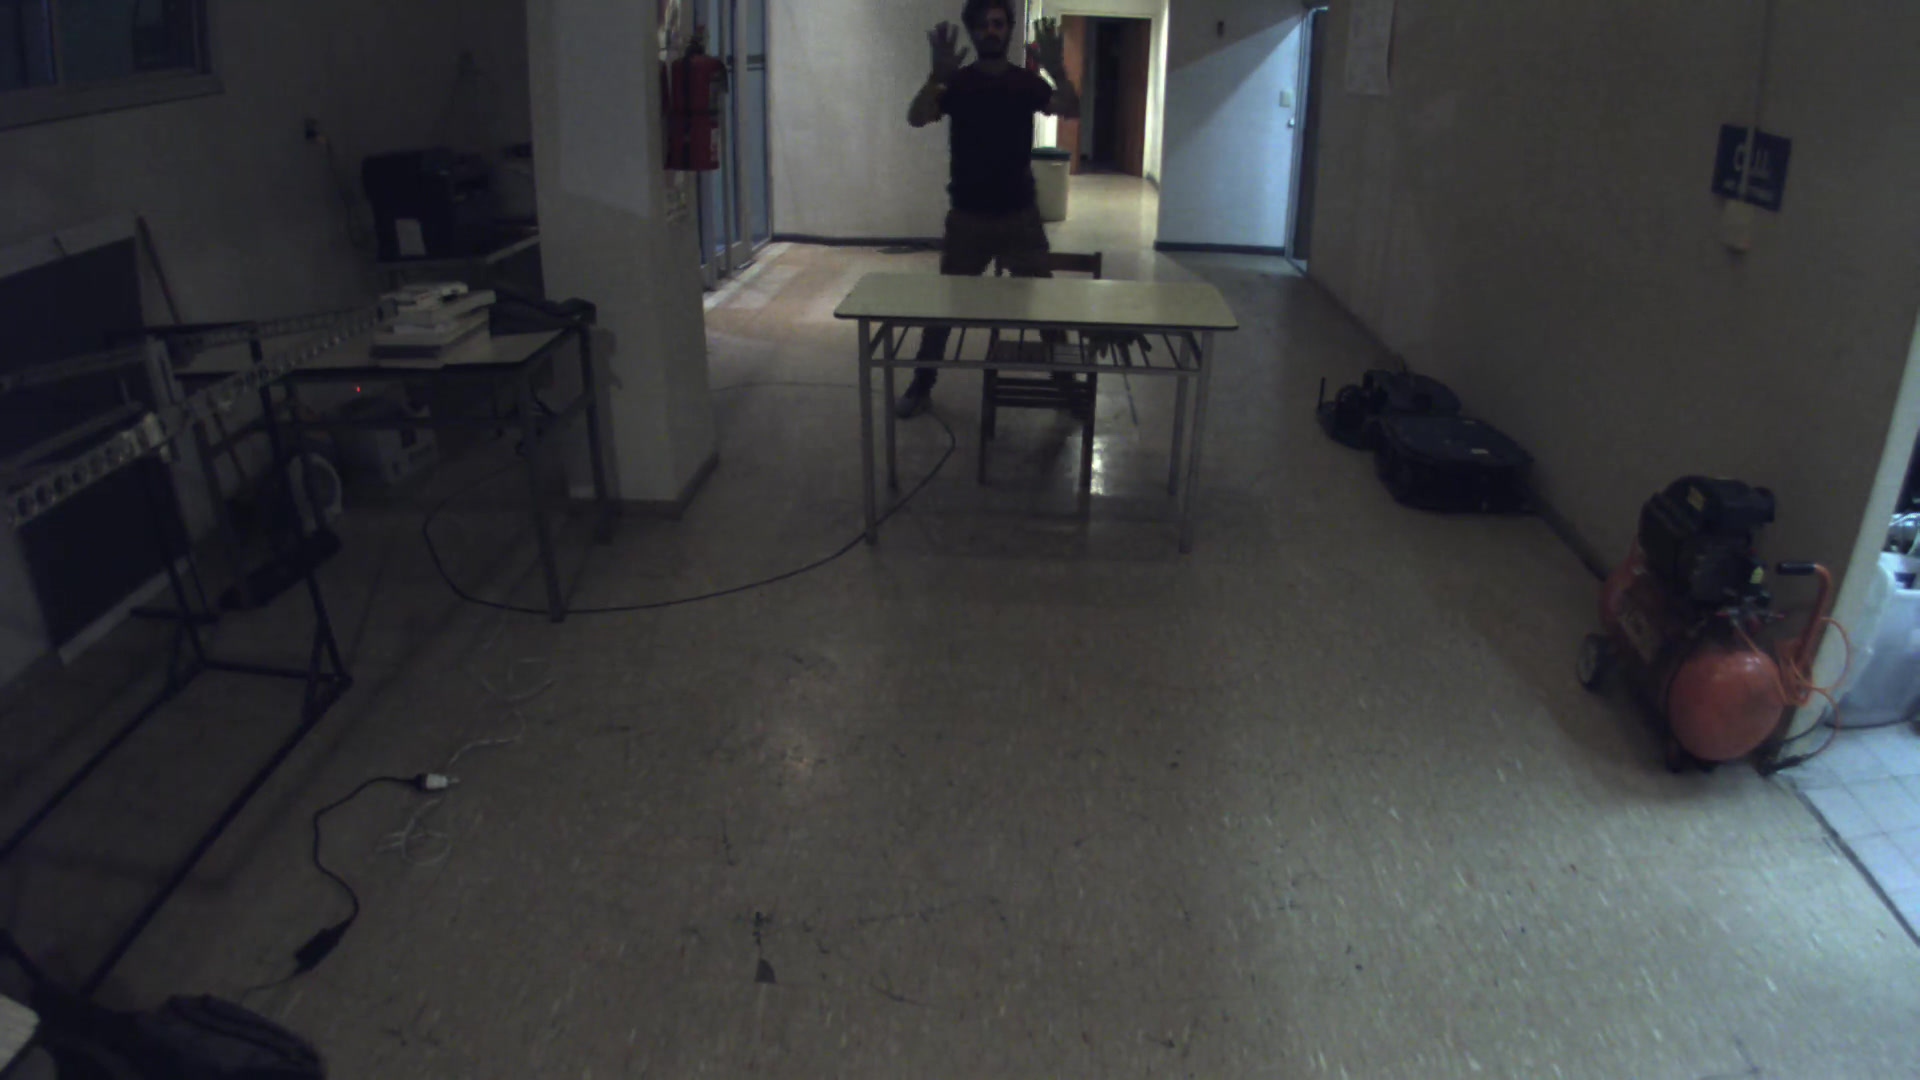hand: (1019, 15, 1085, 86), (922, 15, 971, 92)
